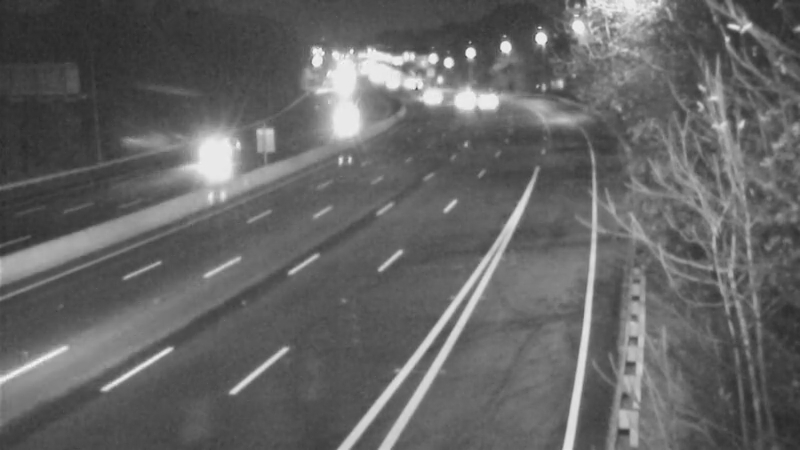vehicle: (170, 125, 250, 205), (405, 70, 455, 120), (435, 74, 485, 124), (455, 72, 505, 122), (317, 106, 367, 156)
